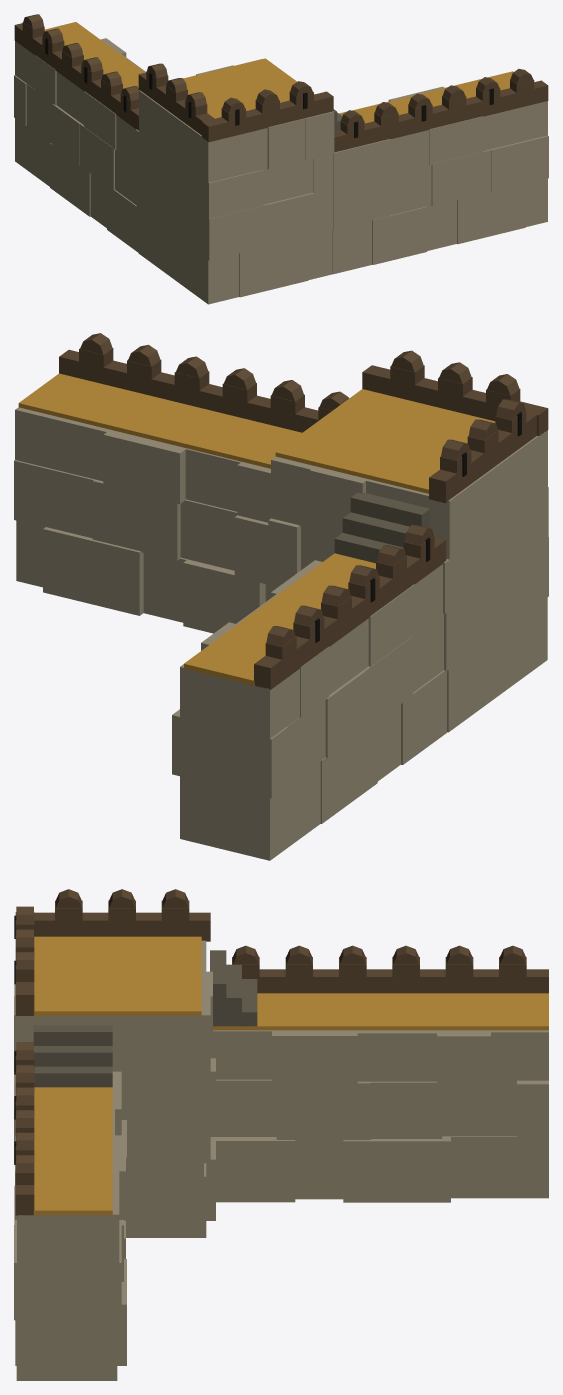
File: BronzeWallCorner.fbx
The picture shows the model from 3 angles, top to bottom: view 1: azimuth 30°, elevation 25°; view 2: azimuth 150°, elevation 25°; view 3: azimuth 270°, elevation 25°; orthographic projection. The views are drawn at different scales.
Visible parts, largest first — view 1: BronzeWallCorner; view 2: BronzeWallCorner; view 3: BronzeWallCorner.
Boxes of the visible parts, box(x1,y1,x2,y2) form: BronzeWallCorner: box(14, 14, 548, 304); BronzeWallCorner: box(14, 333, 548, 860); BronzeWallCorner: box(14, 889, 548, 1380).
Size of the model in its own units: 1202 by 661 by 1202.
5 materials, 5 textured.
